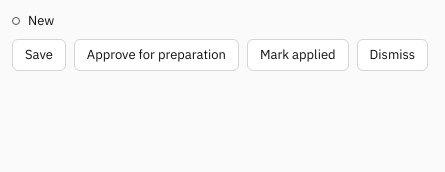
Scenario: DecisionBar › sends the action, reports the answer, and shows its own undo on the job page
Click the button with aria-label "Save:" at [39, 55], box [12,39,66,71]
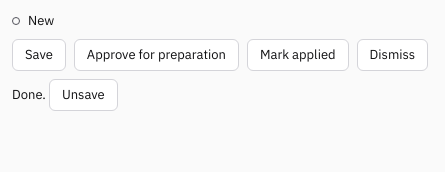
Expected: the button "Unsave" is shown, [49,79,118,111]
